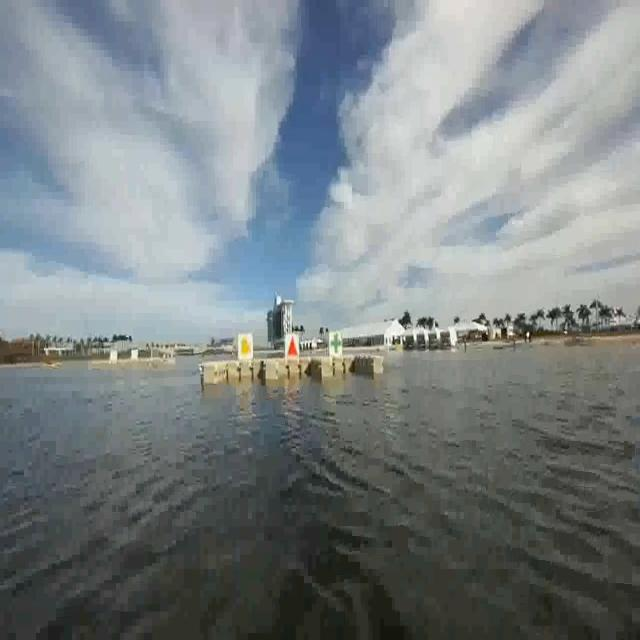blue-cross: (328, 332, 345, 358)
red-dot: (286, 332, 299, 358)
yellow-duck: (238, 332, 256, 368)
